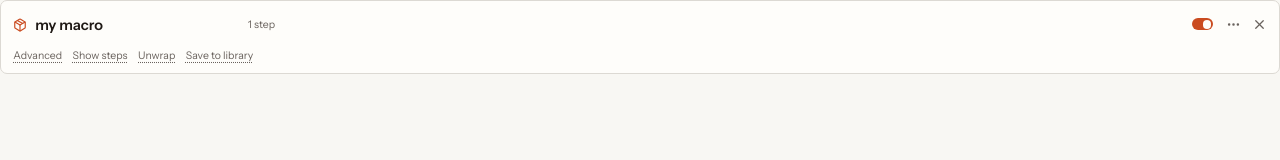
Test case: <MacroCard /> › reports a failed library save (e.g. storage full) instead of throwing
The image size is (1280, 160).
Click the button "Save to library". click: (220, 56)
box: [186,47,253,64]
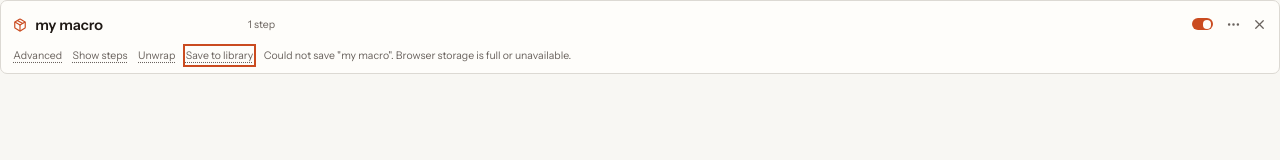
expect the text "Could not save \"my macro\". Browser storage is full or unavailable." is shown: met, box [264,48,571,62]
